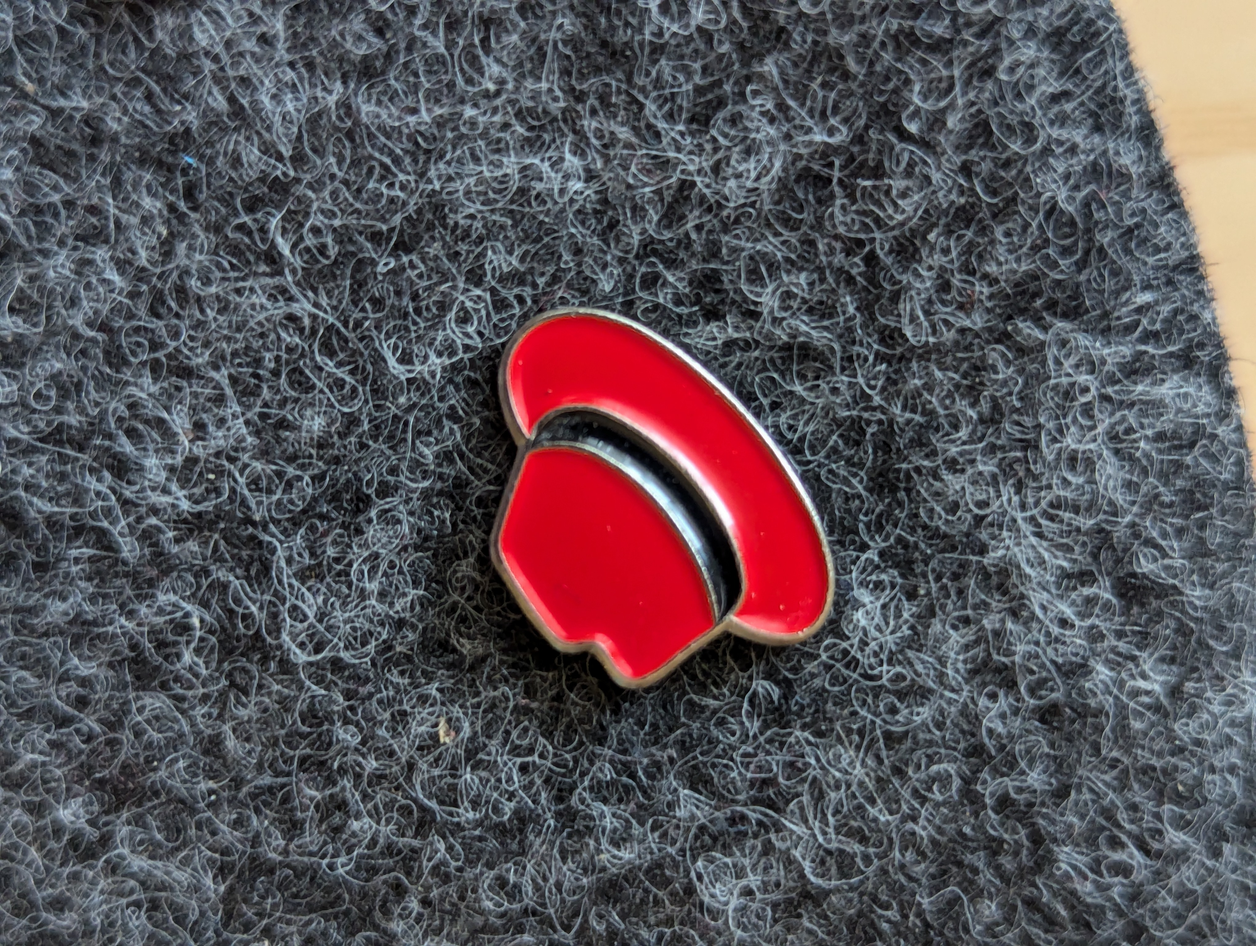Red-Hat: (399, 253, 957, 763)
